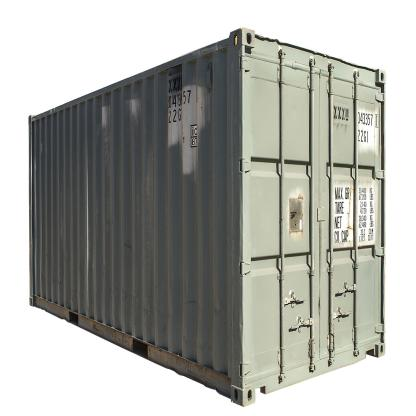Damage: (117, 231, 142, 265), (182, 287, 202, 317), (34, 142, 52, 170)
